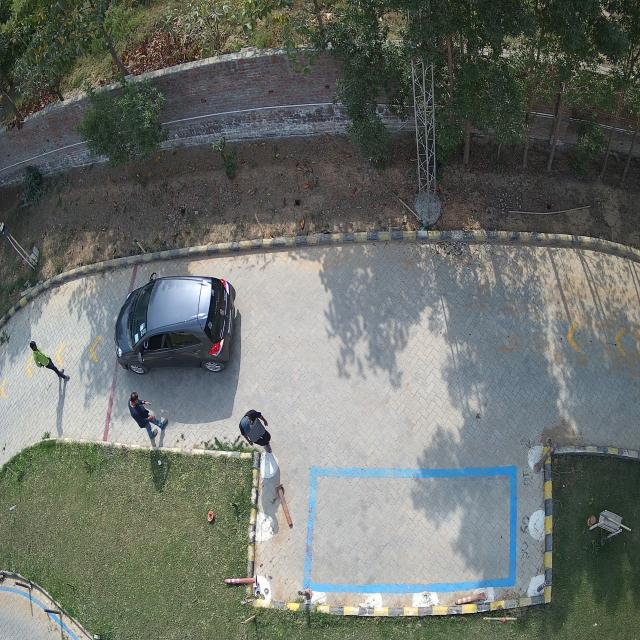car: (115, 273, 236, 375)
